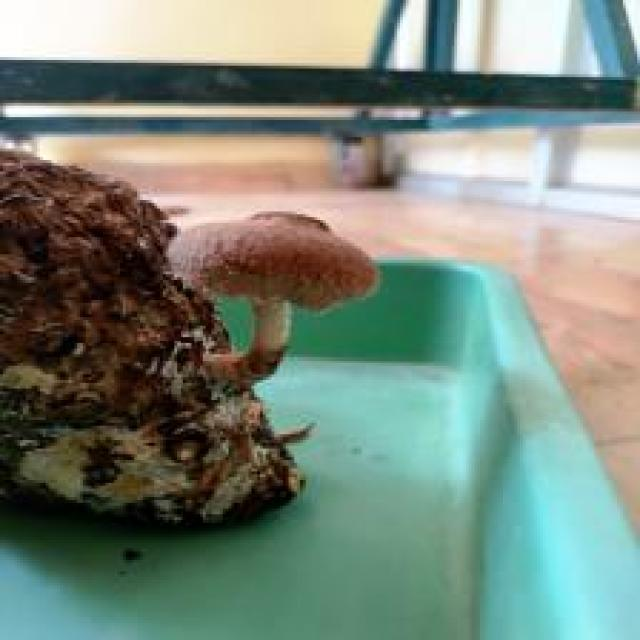field-mushroom: (163, 206, 380, 386)
